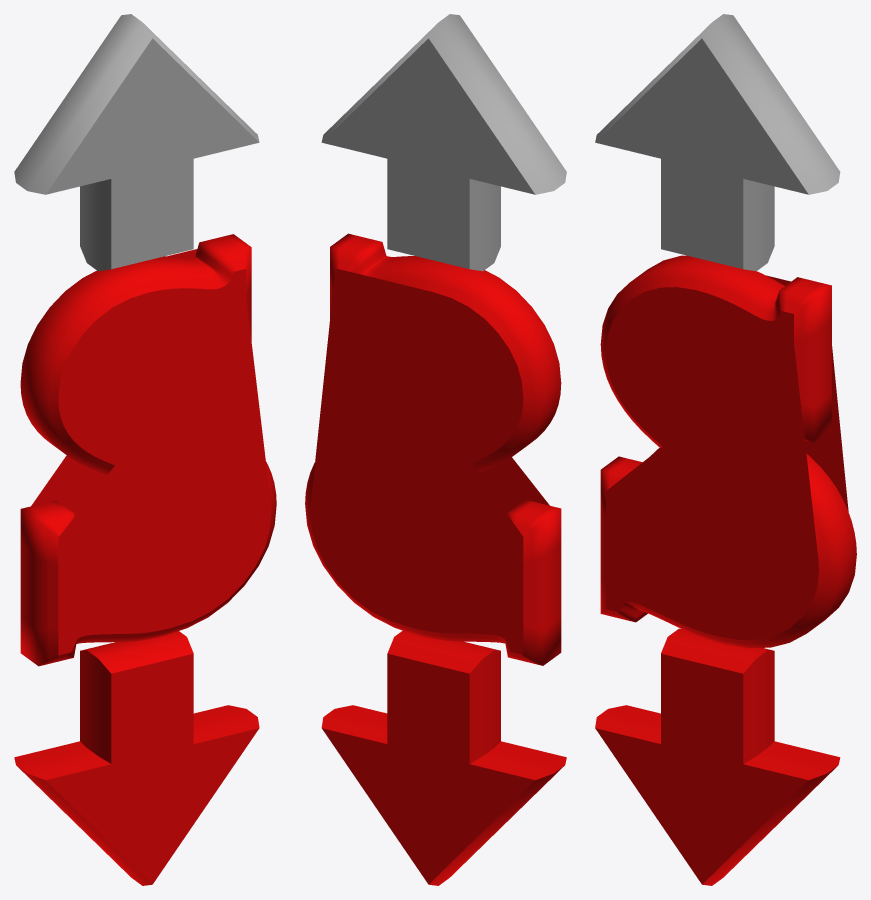
Rendered from switchSign_red_black.fbx.
3 views of the same model, side by side, from view 1: azimuth 30°, elevation 25°; view 2: azimuth 150°, elevation 25°; view 3: azimuth 330°, elevation 25° (orthographic).
Parts seen in each view (by area): view 1: polySurface1, pCube1, pCube2; view 2: polySurface1, pCube1, pCube2; view 3: polySurface1, pCube1, pCube2.
Part boxes in pixels (x1,y1,x2,y2): polySurface1: [20, 234, 276, 666]; pCube1: [14, 14, 259, 271]; pCube2: [14, 631, 259, 885]; polySurface1: [305, 233, 561, 665]; pCube1: [321, 14, 566, 271]; pCube2: [321, 630, 566, 885]; polySurface1: [600, 255, 856, 648]; pCube1: [595, 14, 840, 271]; pCube2: [595, 628, 840, 885].
Size of the model in its own units: 1.96 by 6.59 by 0.45.
